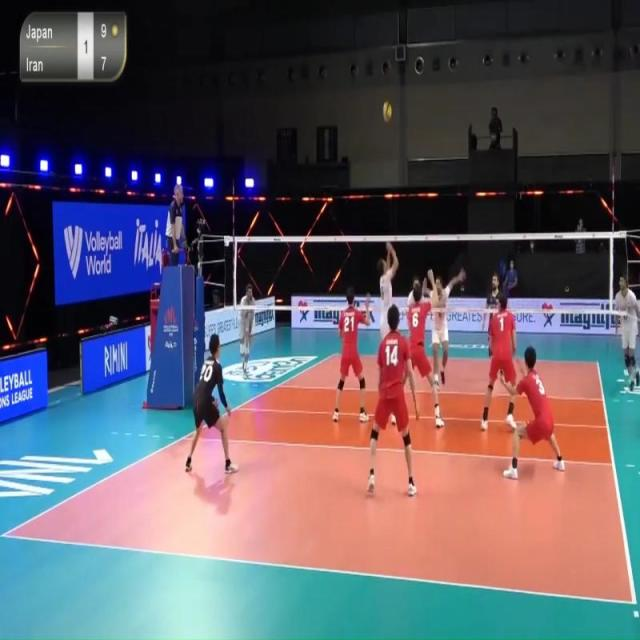volleyball: (382, 102, 392, 120)
